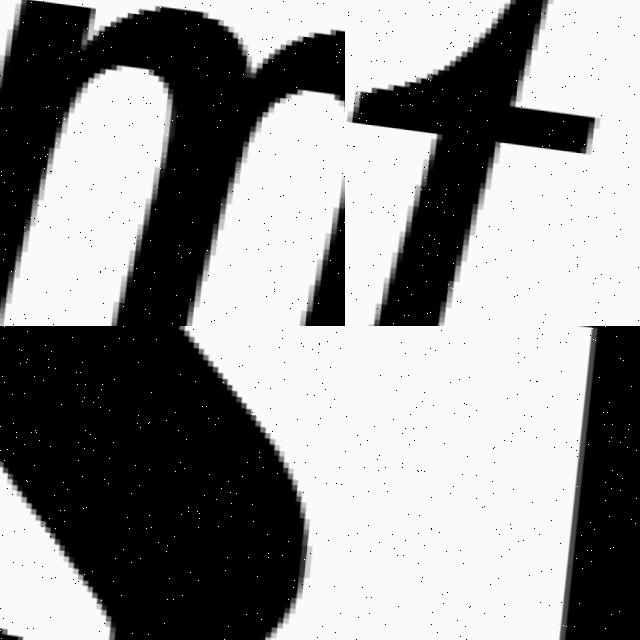M: (0, 0, 345, 326)
S: (0, 326, 345, 640)
T: (345, 0, 616, 326), (525, 326, 640, 640)
